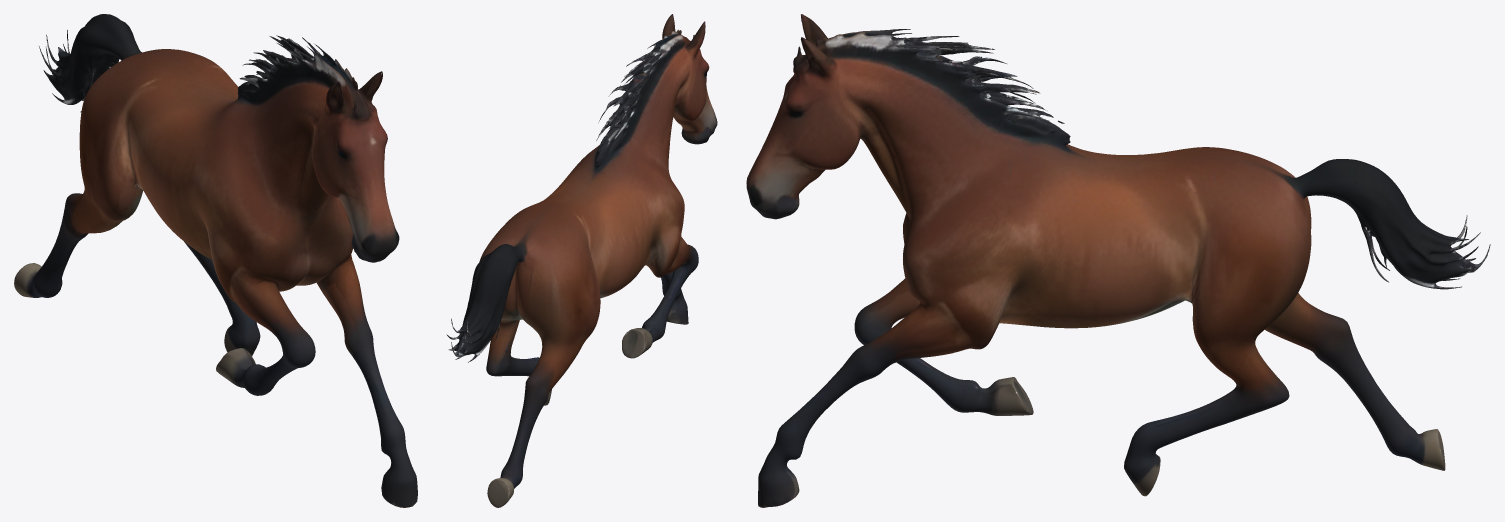
File: horse_galloping.glb
The picture shows the model from 3 angles, left to right: view 1: azimuth 30°, elevation 25°; view 2: azimuth 150°, elevation 25°; view 3: azimuth 270°, elevation 25°; orthographic projection. The views are drawn at different scales.
Visible parts, largest first — view 1: model; view 2: model; view 3: model.
Part boxes in pixels (left/top/right/bottom): model: left=14, top=14, right=417, bottom=507; model: left=446, top=14, right=717, bottom=507; model: left=746, top=14, right=1490, bottom=507.
Bounding box in the file's own units: 0.4475 × 1.31 × 1.9.
Materials: 1 (1 with a texture image).
